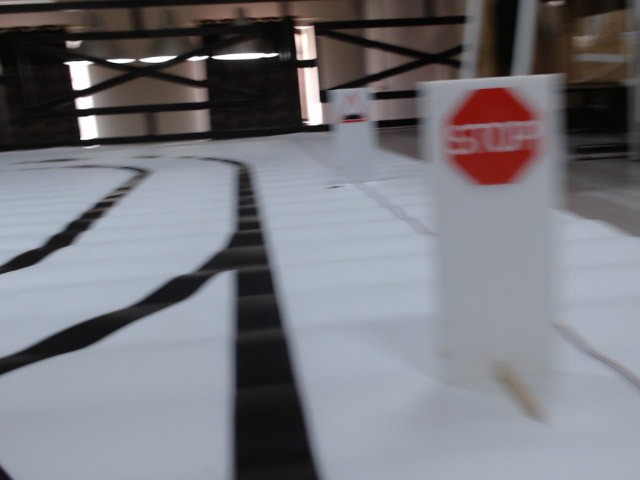Stop: (444, 88, 544, 187)
